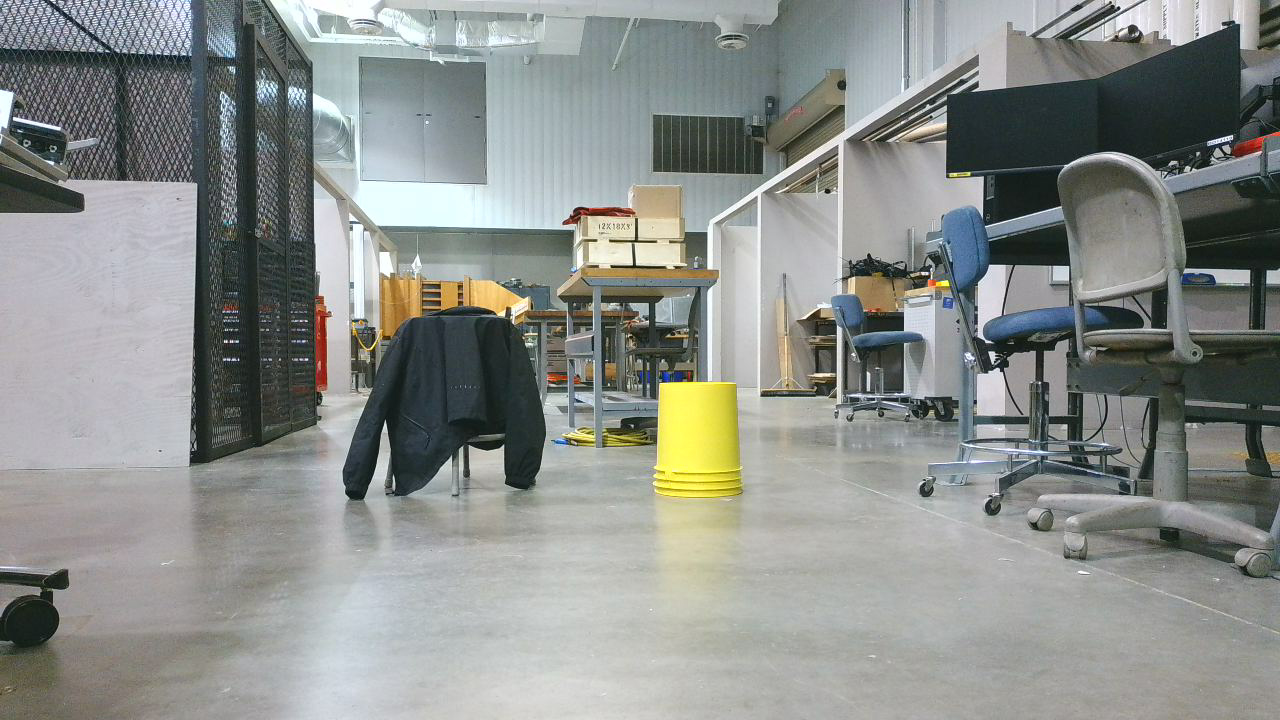yellow_bucket: (655, 383, 754, 503)
